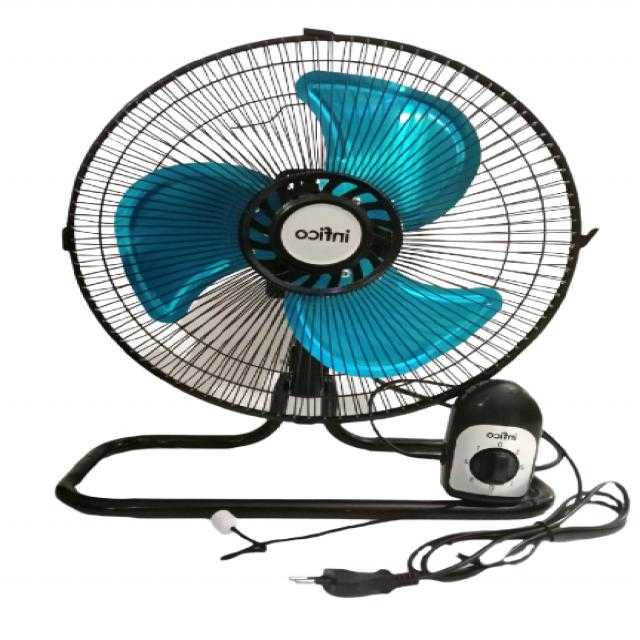fan: (45, 29, 610, 598)
